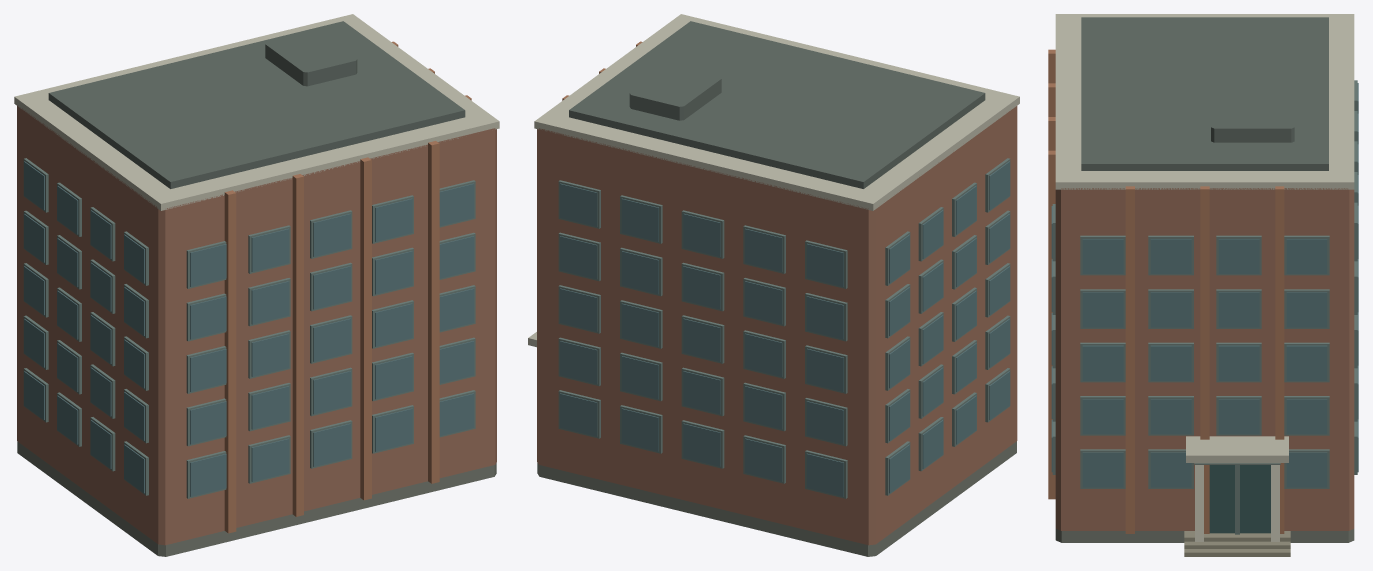
The picture shows the model from 3 angles, left to right: view 1: azimuth 30°, elevation 25°; view 2: azimuth 150°, elevation 25°; view 3: azimuth 270°, elevation 25°; orthographic projection.
Parts seen in each view (by area): view 1: form, glaze, relief, glowing; view 2: form, glaze, relief, glowing; view 3: form, glaze, relief, glowing.
Boxes of the visible parts, <box> form: form: <box>14,14,499,556</box>; glaze: <box>24,161,474,496</box>; relief: <box>23,158,475,498</box>; glowing: <box>90,315,350,363</box>; form: <box>528,14,1019,556</box>; glaze: <box>560,161,1010,496</box>; relief: <box>558,158,1010,498</box>; glowing: <box>683,291,976,361</box>; form: <box>1048,14,1354,556</box>; glaze: <box>1051,83,1358,533</box>; relief: <box>1052,80,1357,541</box>; glowing: <box>1218,345,1259,380</box>.
Size of the model in its own units: 13.54 by 12.71 by 9.35.
